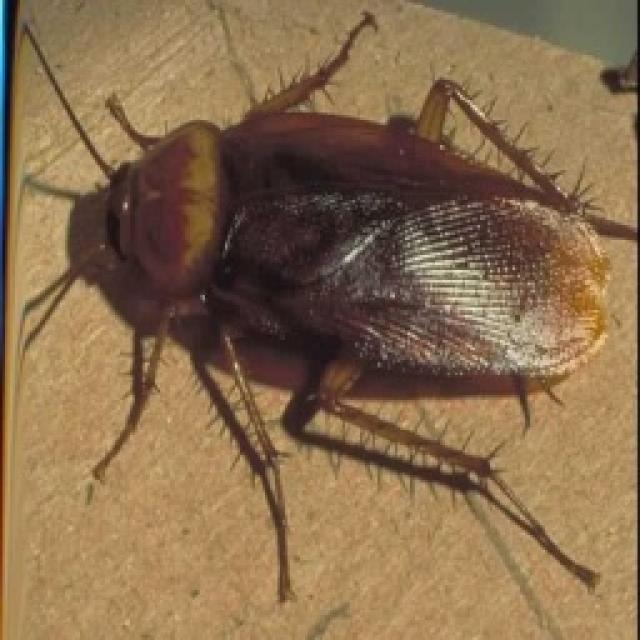cockroach: (19, 11, 626, 609)
